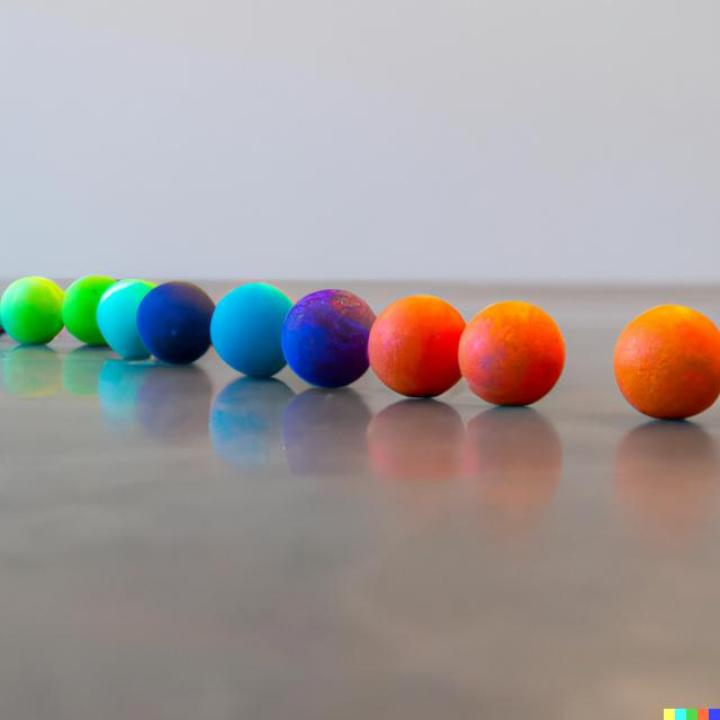orange: (614, 306, 720, 422), (459, 300, 565, 406), (371, 295, 466, 397)
